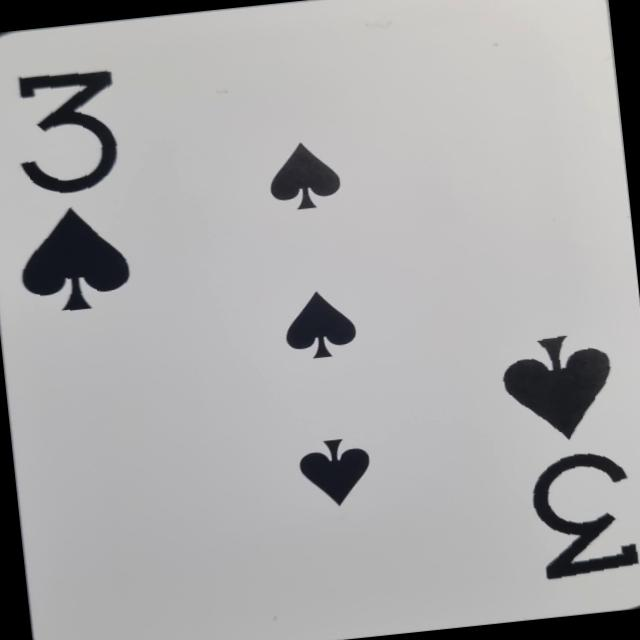3s: (487, 314, 640, 601), (0, 51, 152, 332)
